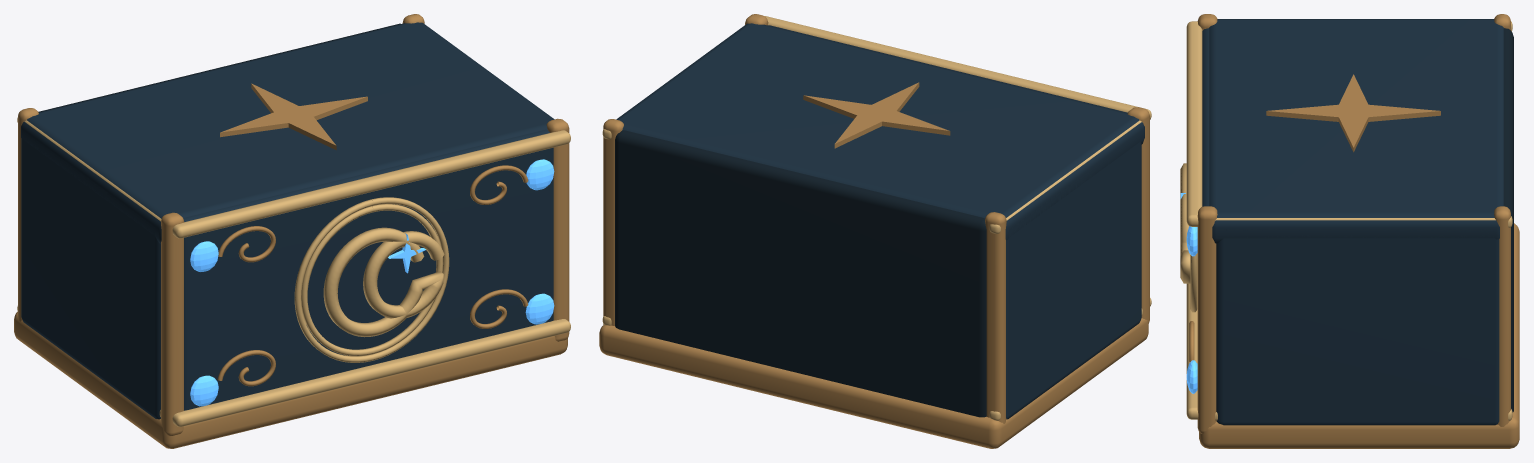
The model's file is deck-shows-v1.glb.
3 views of the same model, side by side, from view 1: azimuth 30°, elevation 25°; view 2: azimuth 150°, elevation 25°; view 3: azimuth 270°, elevation 25° (orthographic). The views are drawn at different scales.
Visible parts, largest first — view 1: Lid leather, Front leather, Left leather, Base, Front milled edge.001, Front milled edge, Crescent crest, Bronze corner, Bronze corner.001, Cast medallion.001, Lid outer celestial crest, Cast medallion (+9 smaller); view 2: Back, Lid leather, Left leather, Base, Rear corner, Front milled edge.001, Lid outer celestial crest, Rear corner.001, Bronze corner, Side milled edge.002; view 3: Lid leather, Right leather, Base, Bronze corner.001, Front milled edge.001, Lid outer celestial crest, Rear corner.001, Back, Front leather, Front milled edge, Crescent crest, Side milled edge.003 (+1 smaller).
Part boxes in pixels (left/top/right/bottom): Lid leather: left=21, top=22, right=554, bottom=243; Front leather: left=183, top=129, right=553, bottom=410; Left leather: left=21, top=131, right=160, bottom=419; Base: left=14, top=311, right=567, bottom=448; Front milled edge.001: left=172, top=130, right=570, bottom=238; Front milled edge: left=172, top=319, right=570, bottom=426; Crescent crest: left=323, top=227, right=444, bottom=337; Bronze corner: left=161, top=212, right=184, bottom=436; Bronze corner.001: left=546, top=118, right=569, bottom=341; Cast medallion.001: left=294, top=197, right=449, bottom=362; Lid outer celestial crest: left=220, top=83, right=367, bottom=150; Cast medallion: left=301, top=204, right=443, bottom=356; Back: left=615, top=130, right=986, bottom=417; Lid leather: left=616, top=23, right=1144, bottom=240; Left leather: left=1006, top=142, right=1141, bottom=419; Base: left=599, top=318, right=1148, bottom=448; Rear corner: left=985, top=212, right=1006, bottom=423; Front milled edge.001: left=764, top=16, right=1151, bottom=119; Lid outer celestial crest: left=803, top=82, right=950, bottom=148; Rear corner.001: left=603, top=119, right=623, bottom=325; Bronze corner: left=1127, top=107, right=1149, bottom=323; Side milled edge.002: left=989, top=120, right=1141, bottom=233; Lid leather: left=1209, top=19, right=1503, bottom=243; Right leather: left=1216, top=229, right=1499, bottom=425; Base: left=1199, top=223, right=1519, bottom=448; Bronze corner.001: left=1197, top=206, right=1217, bottom=433; Front milled edge.001: left=1186, top=21, right=1202, bottom=226; Lid outer celestial crest: left=1266, top=74, right=1440, bottom=152; Rear corner.001: left=1494, top=206, right=1510, bottom=426; Back: left=1503, top=28, right=1513, bottom=412; Front leather: left=1202, top=28, right=1209, bottom=206; Front milled edge: left=1186, top=253, right=1198, bottom=419; Crescent crest: left=1180, top=163, right=1190, bottom=283; Side milled edge.003: left=1215, top=216, right=1512, bottom=227.
Bounding box in the file's own units: 1.64 × 0.91 × 1.17.
